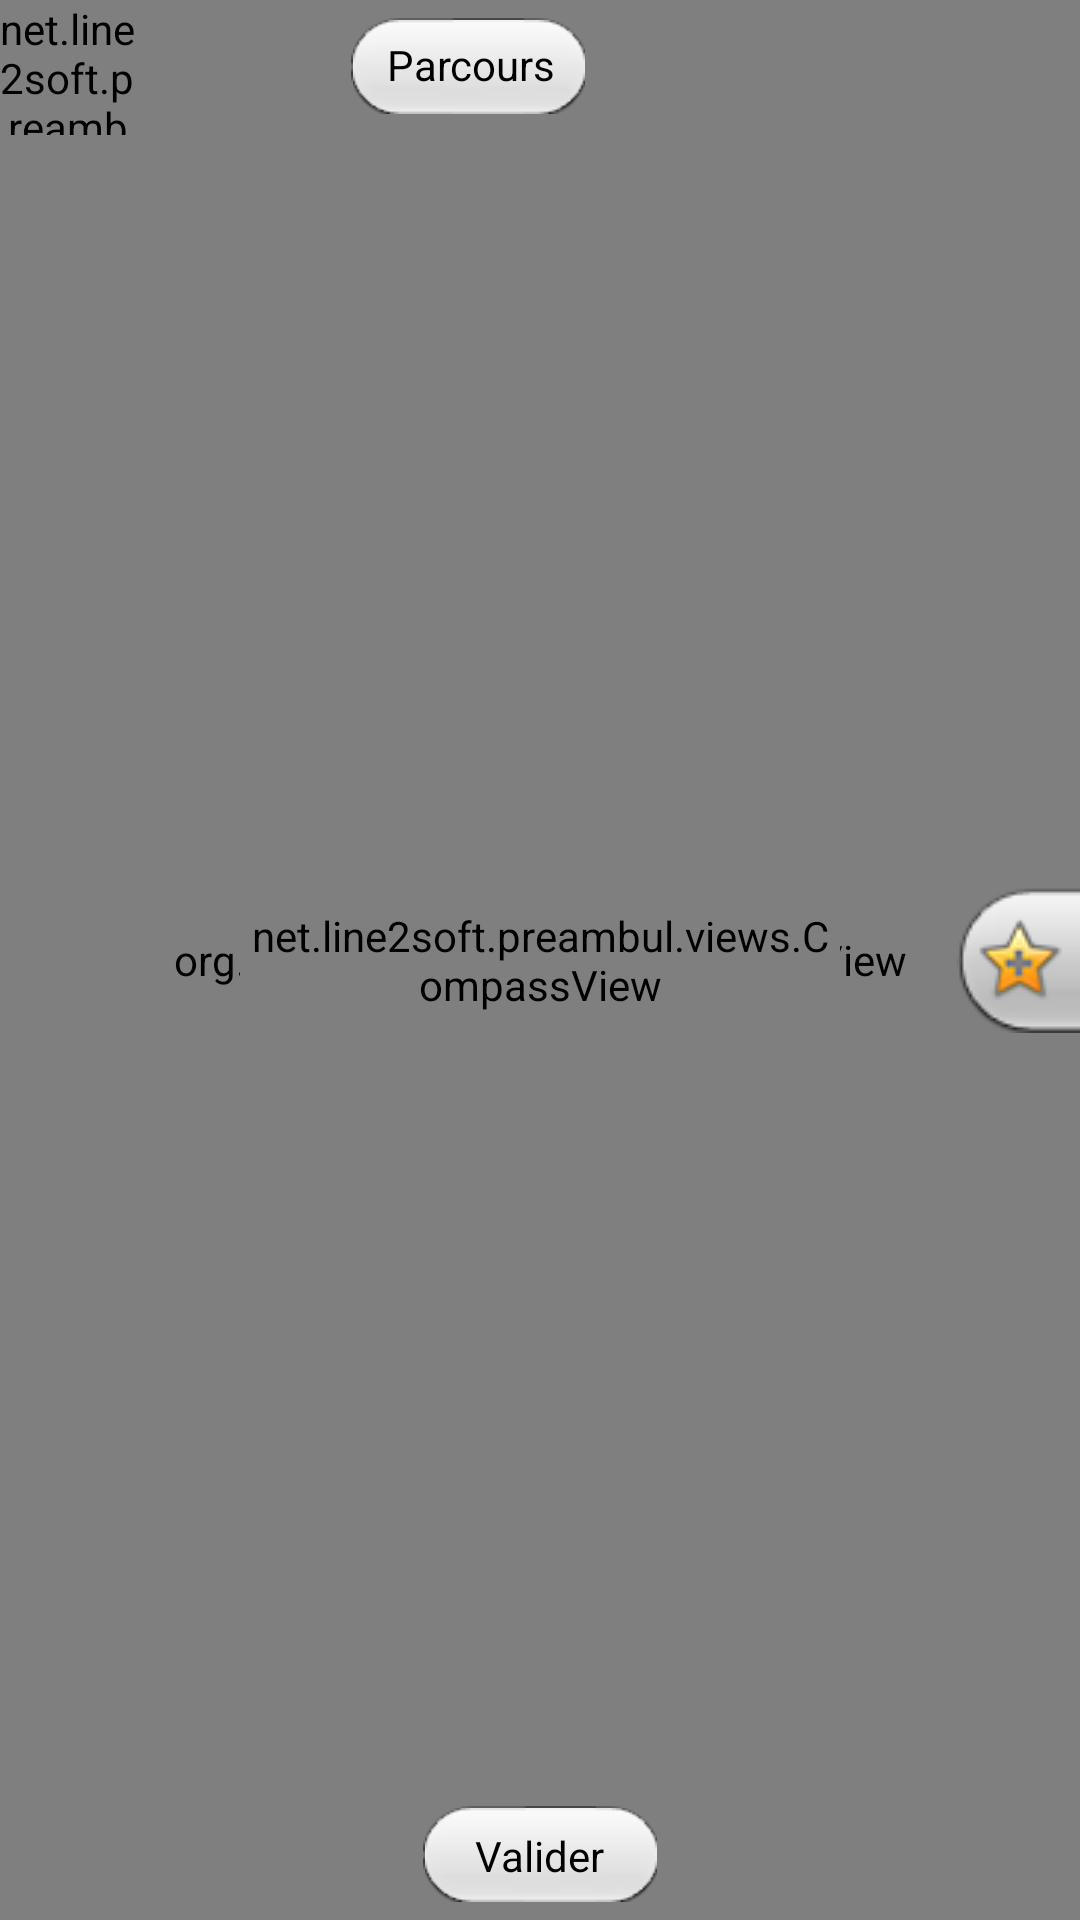

Icons on this 1080px x 1920px Android screen, each with its box as bbox=[x1, y1, x2, y2]:
favorite add: bbox=[959, 890, 1080, 1033]
